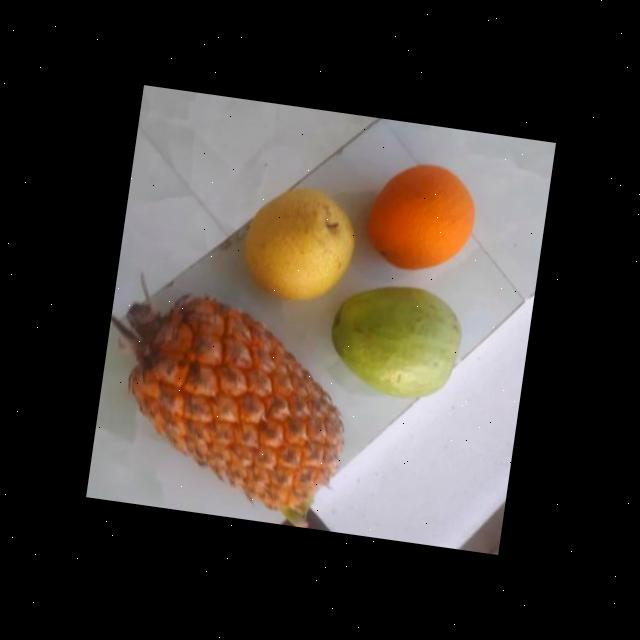guava: (324, 276, 470, 409)
orange: (358, 153, 480, 282)
pear: (238, 181, 362, 312)
pineapple: (105, 294, 358, 528)
